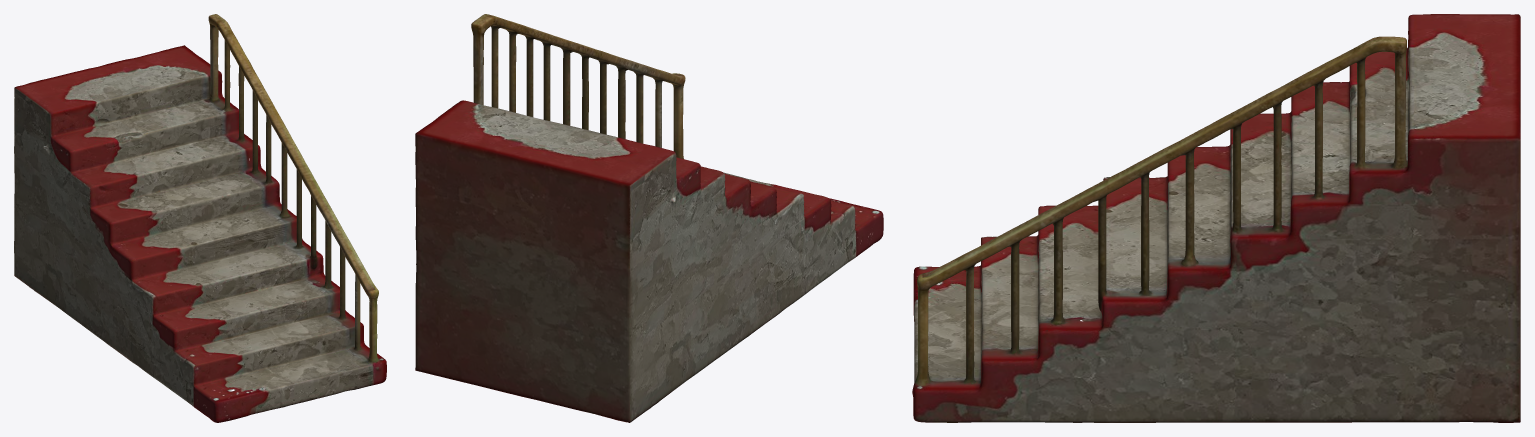
Rendered from g67_stair_flight.glb.
The picture shows the model from 3 angles, left to right: view 1: azimuth 30°, elevation 25°; view 2: azimuth 150°, elevation 25°; view 3: azimuth 270°, elevation 25°; orthographic projection. The views are drawn at different scales.
Parts seen in each view (by area): view 1: tripo_node_a718a6db; view 2: tripo_node_a718a6db; view 3: tripo_node_a718a6db.
Part boxes in pixels (x1,y1,x2,y2): tripo_node_a718a6db: [14, 14, 386, 422]; tripo_node_a718a6db: [415, 14, 883, 422]; tripo_node_a718a6db: [912, 14, 1520, 422].
Size of the model in its own units: 48.74 by 66.81 by 97.7.
1 material, 1 textured.
